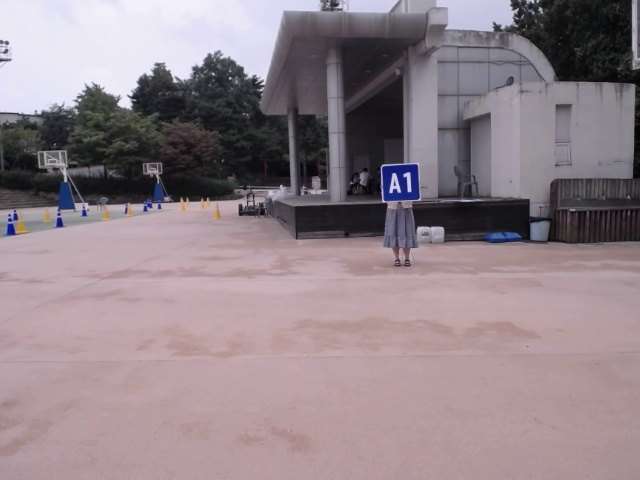delivery_a1: (382, 163, 421, 202)
